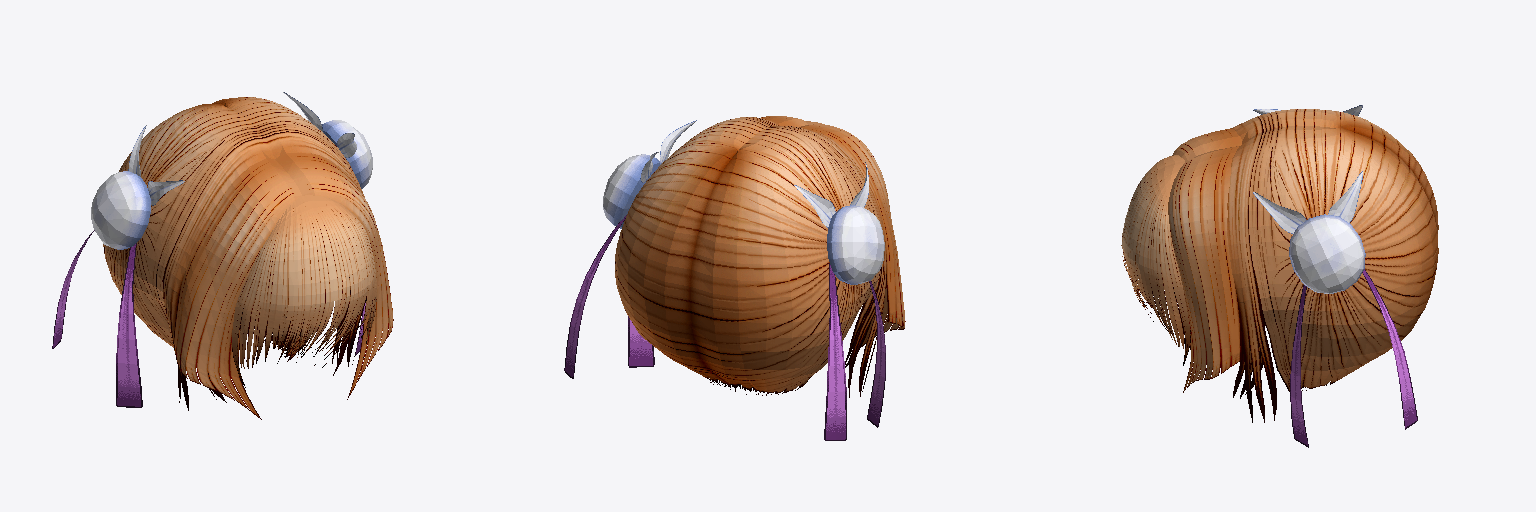
3 views of the same model, side by side, from view 1: azimuth 30°, elevation 25°; view 2: azimuth 150°, elevation 25°; view 3: azimuth 270°, elevation 25° (orthographic).
Parts seen in each view (by area): view 1: objMesh_kami_back_04_Layer1, objMesh_kami_side_04_Layer1, objMesh_kami_front_04_Layer1; view 2: objMesh_kami_back_04_Layer1, objMesh_kami_side_04_Layer1; view 3: objMesh_kami_back_04_Layer1, objMesh_kami_side_04_Layer1, objMesh_kami_front_04_Layer1.
Part boxes in pixels (x1,y1,x2,y2): objMesh_kami_back_04_Layer1: (52, 92, 372, 410); objMesh_kami_side_04_Layer1: (174, 153, 393, 419); objMesh_kami_front_04_Layer1: (232, 195, 376, 387); objMesh_kami_back_04_Layer1: (564, 117, 886, 440); objMesh_kami_side_04_Layer1: (761, 116, 905, 347); objMesh_kami_back_04_Layer1: (1227, 105, 1438, 447); objMesh_kami_side_04_Layer1: (1168, 128, 1241, 392); objMesh_kami_front_04_Layer1: (1121, 155, 1190, 365).
Size of the model in its own units: 2.44 by 2.17 by 2.37.
3 materials, 3 textured.